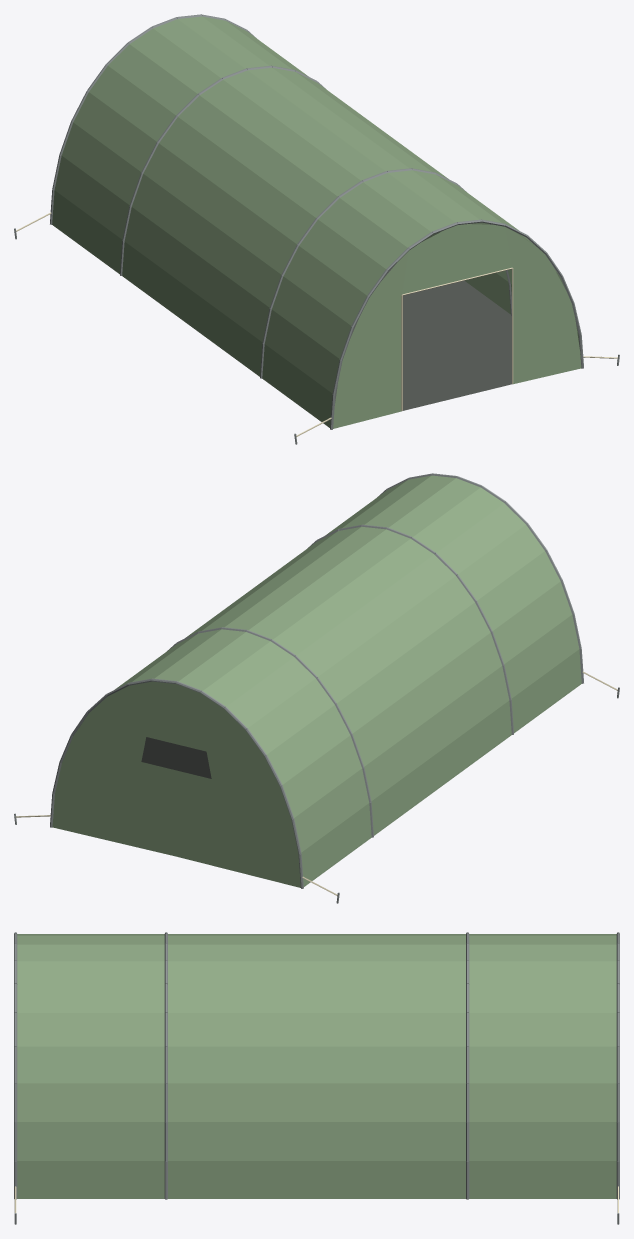
File: Tent_Tunnel.fbx
3 views of the same model, one above another, from view 1: azimuth 30°, elevation 25°; view 2: azimuth 150°, elevation 25°; view 3: azimuth 270°, elevation 25° (orthographic). The views are drawn at different scales.
Parts seen in each view (by area): view 1: Tent_Tunnel_Geometry; view 2: Tent_Tunnel_Geometry; view 3: Tent_Tunnel_Geometry.
Part boxes in pixels (x1,y1,x2,y2): Tent_Tunnel_Geometry: (14,14,619,444); Tent_Tunnel_Geometry: (14,473,619,903); Tent_Tunnel_Geometry: (14,932,619,1224).
Size of the model in its own units: 389 by 208 by 583.
